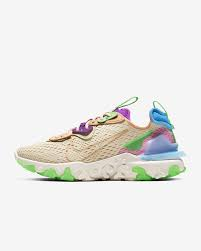nike: (59, 131, 133, 162)
